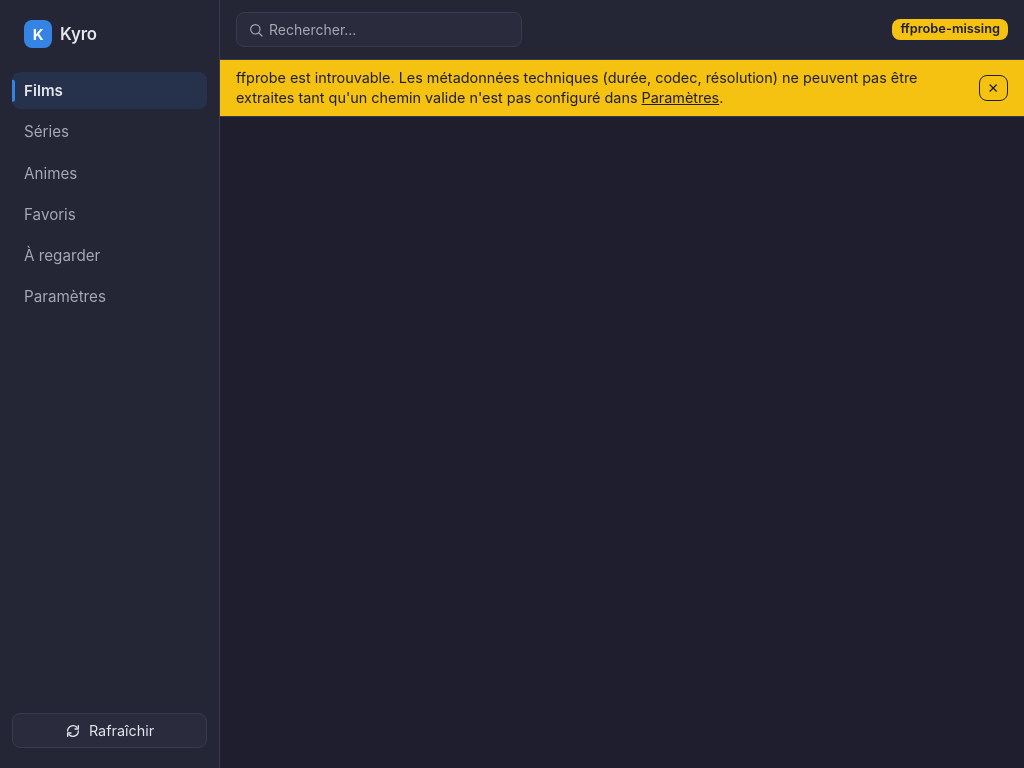
Test: +layout.svelte — bandeaux › le bandeau ffprobe-missing est dismissable
This screenshot has width=1024, height=768.
Expected: the message with test id "banner-ffprobe-missing" is shown, [220,60,1023,117]
Click the button named "Masquer ce bandeau" at point(993, 88), box [979,75,1008,101]
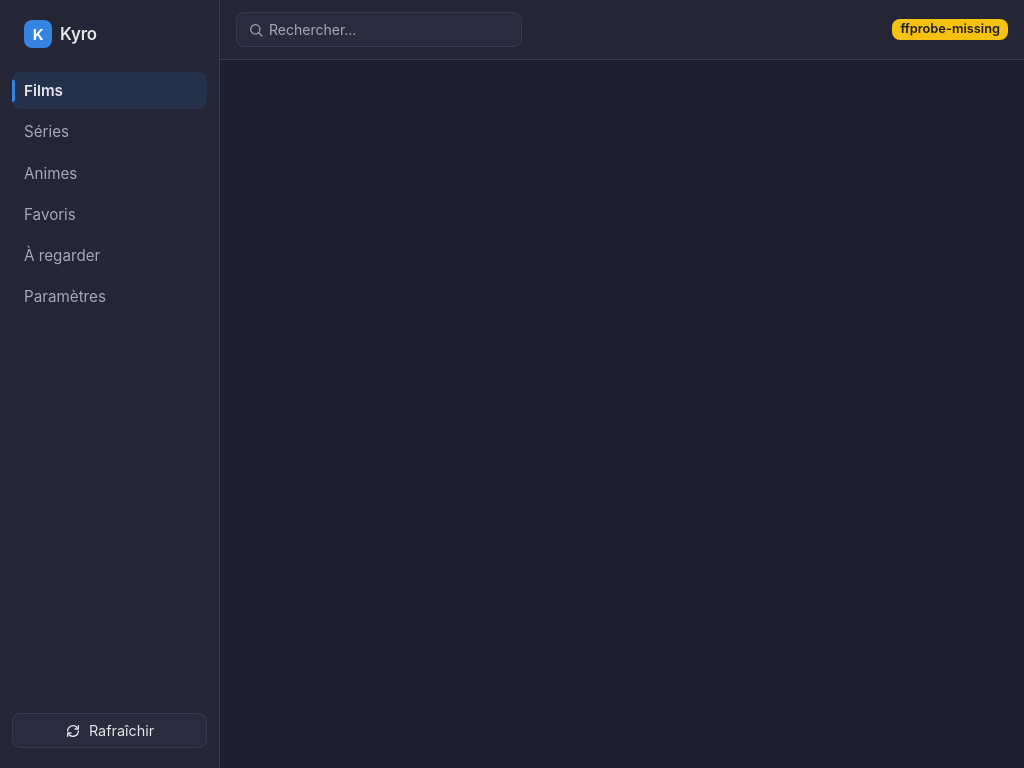
Result: the message with test id "banner-ffprobe-missing" is gone
